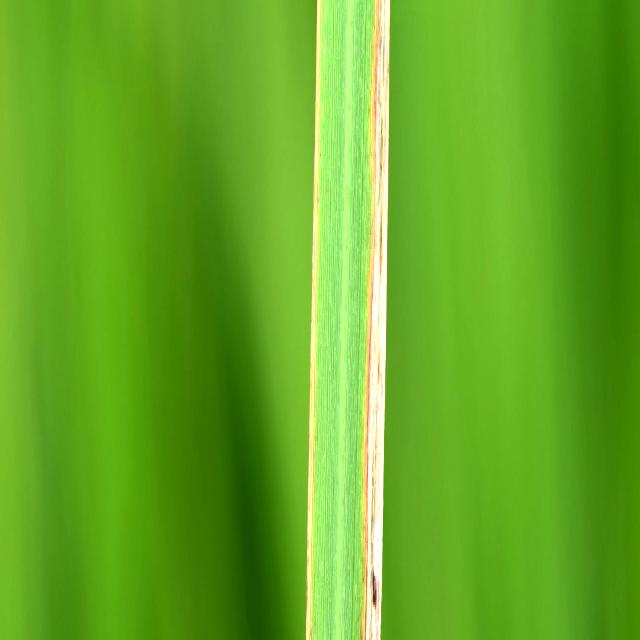BLB: (362, 0, 390, 637)
